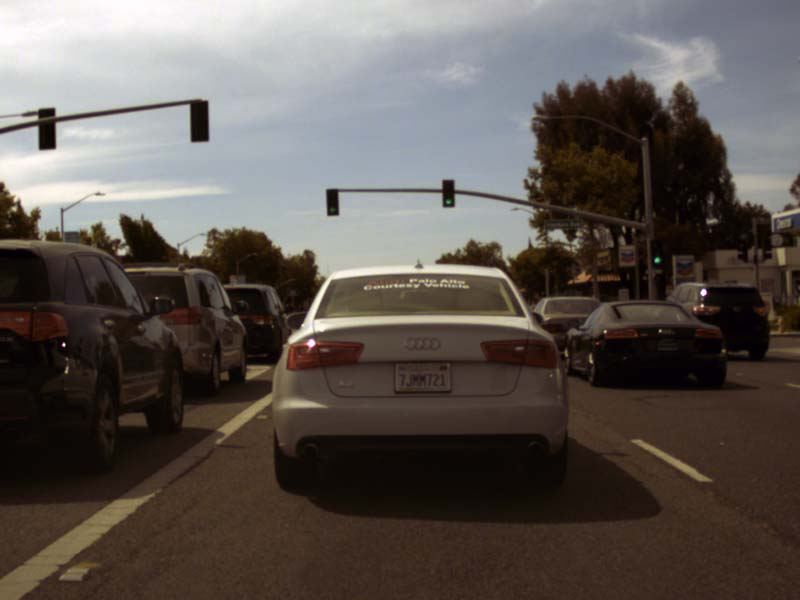Green: (326, 187, 338, 214), (650, 240, 662, 267), (442, 179, 453, 206)
